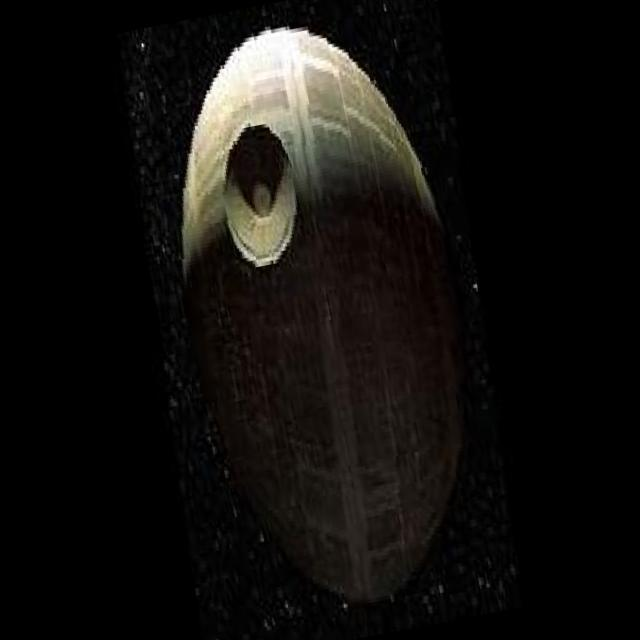Death Star: (126, 2, 513, 634)
